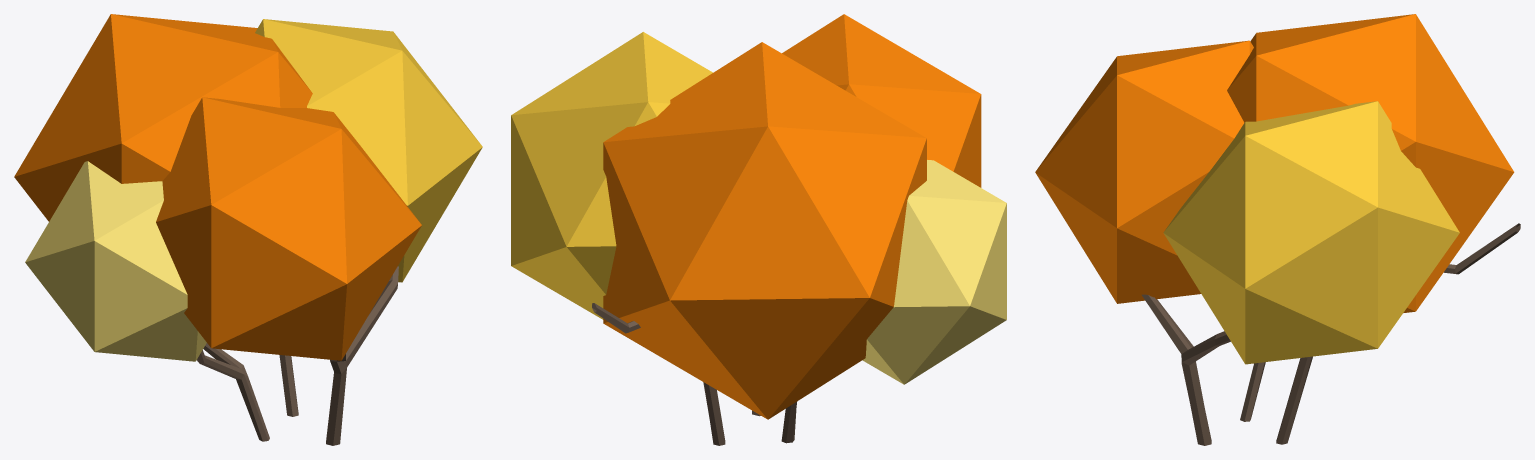
Rendered from Isl_13_Bush_4.fbx.
3 renders of one model, left to right at view 1: azimuth 30°, elevation 25°; view 2: azimuth 150°, elevation 25°; view 3: azimuth 270°, elevation 25°, orthographic. The views are drawn at different scales.
Visible parts, largest first — view 1: Isl_13_Bush_4; view 2: Isl_13_Bush_4; view 3: Isl_13_Bush_4.
Part boxes in pixels (box(x1,y1,x2,y2)): Isl_13_Bush_4: box(14, 14, 482, 445); Isl_13_Bush_4: box(511, 14, 1006, 445); Isl_13_Bush_4: box(1035, 14, 1520, 445).
Bounding box in the file's own units: 280 × 281 × 239.
Materials: 1 (1 with a texture image).
